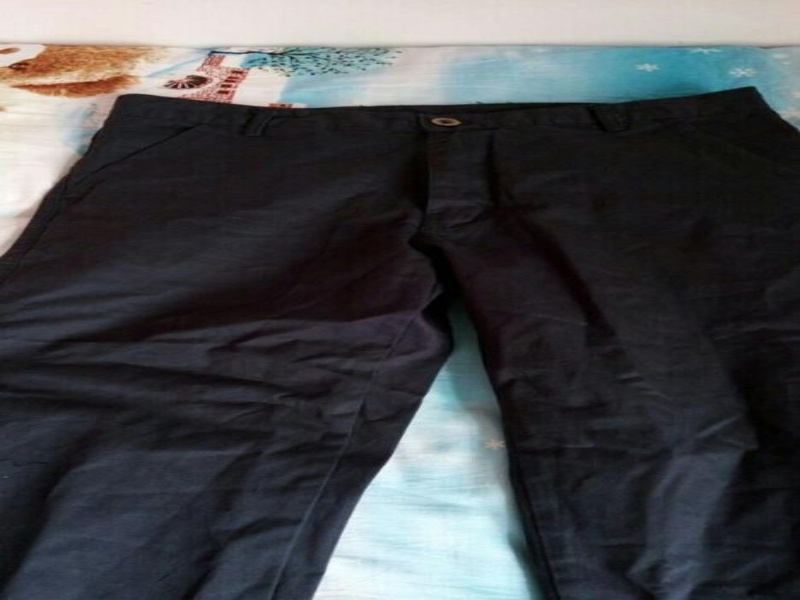trousers: (0, 76, 798, 599)
